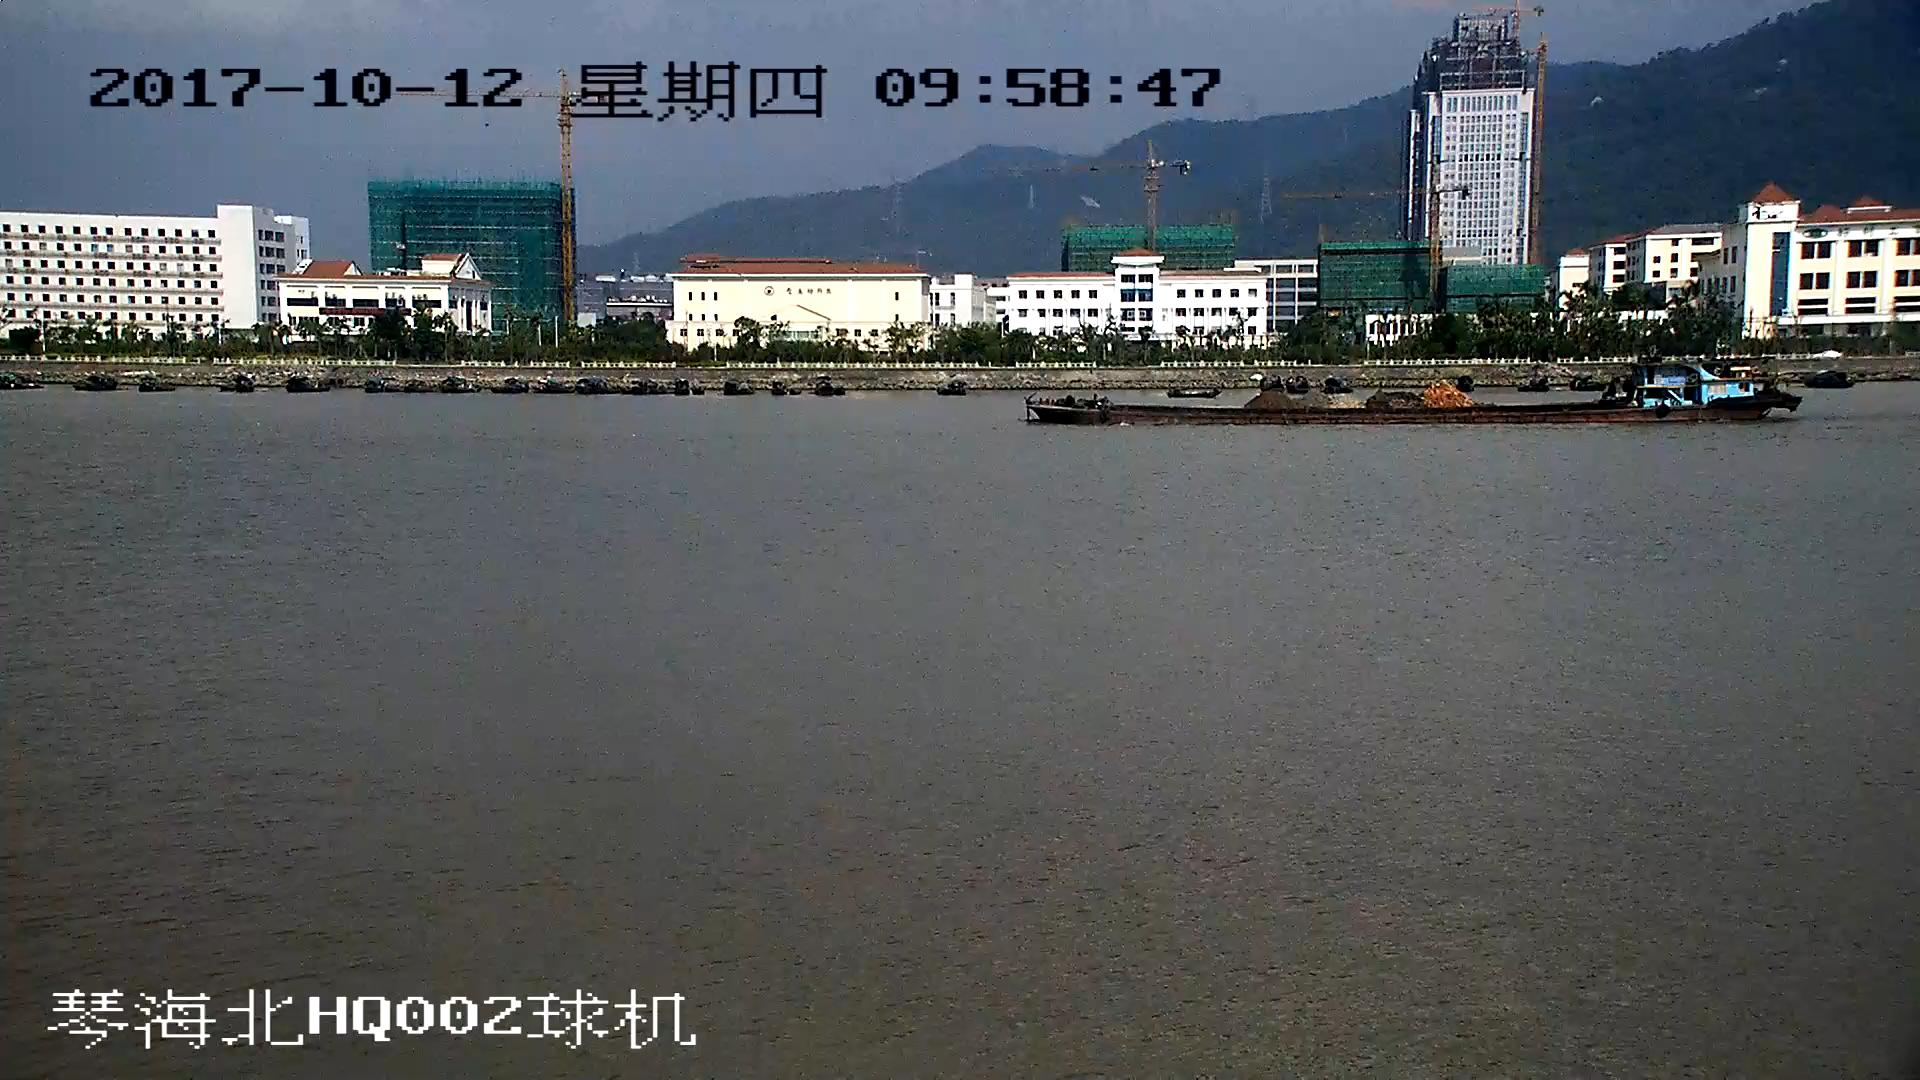ore carrier: (1027, 358, 1798, 426)
